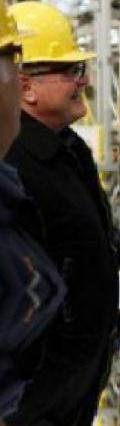hard-hat: (0, 0, 60, 76)
